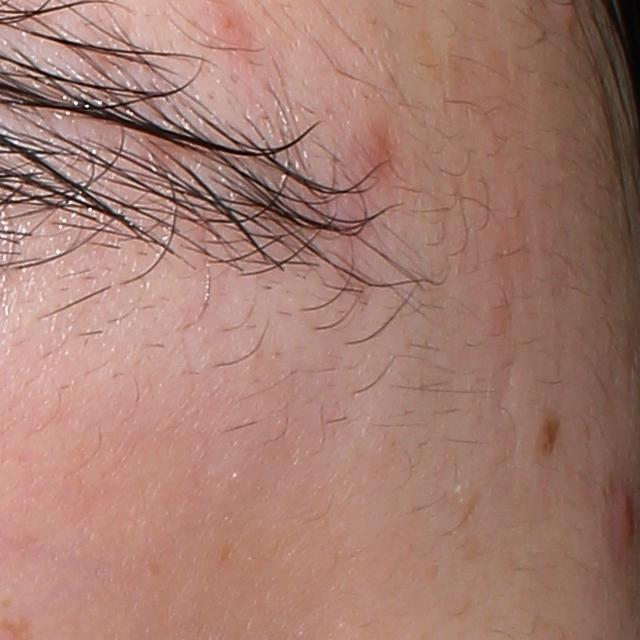nevus: (538, 411, 567, 459)
papule: (615, 495, 635, 550)
